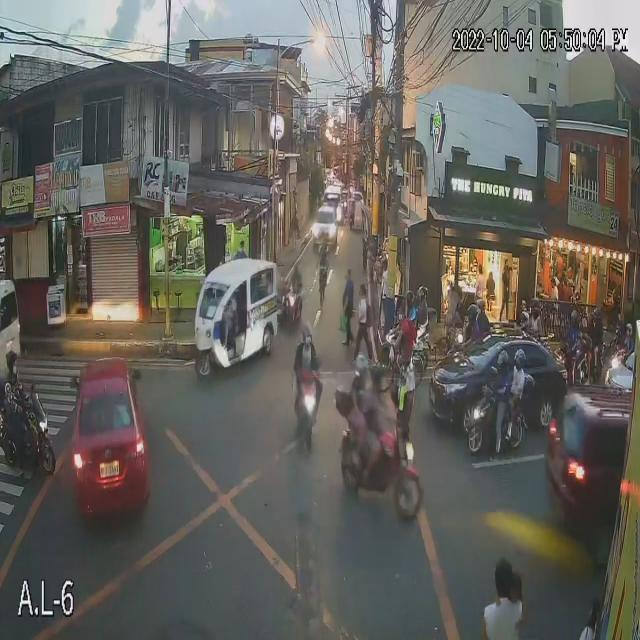helmet: (368, 360, 388, 399), (491, 349, 512, 381), (299, 323, 317, 355), (513, 309, 530, 336), (4, 351, 20, 375), (353, 356, 369, 377), (400, 289, 417, 307), (566, 307, 580, 328), (475, 297, 491, 315), (513, 349, 526, 371), (467, 299, 478, 324), (416, 281, 430, 300), (531, 299, 544, 316)
motorcycle: (333, 440, 420, 505), (0, 393, 56, 475), (466, 392, 521, 459), (278, 373, 324, 438), (384, 325, 428, 371), (555, 345, 598, 388)
rider: (508, 344, 536, 417), (370, 365, 398, 430), (0, 347, 23, 424), (351, 349, 369, 440), (295, 324, 317, 395), (561, 305, 586, 353), (414, 283, 434, 335), (492, 351, 508, 415), (401, 285, 416, 341), (534, 294, 549, 347), (474, 293, 491, 335), (464, 303, 481, 341), (517, 309, 531, 339)
